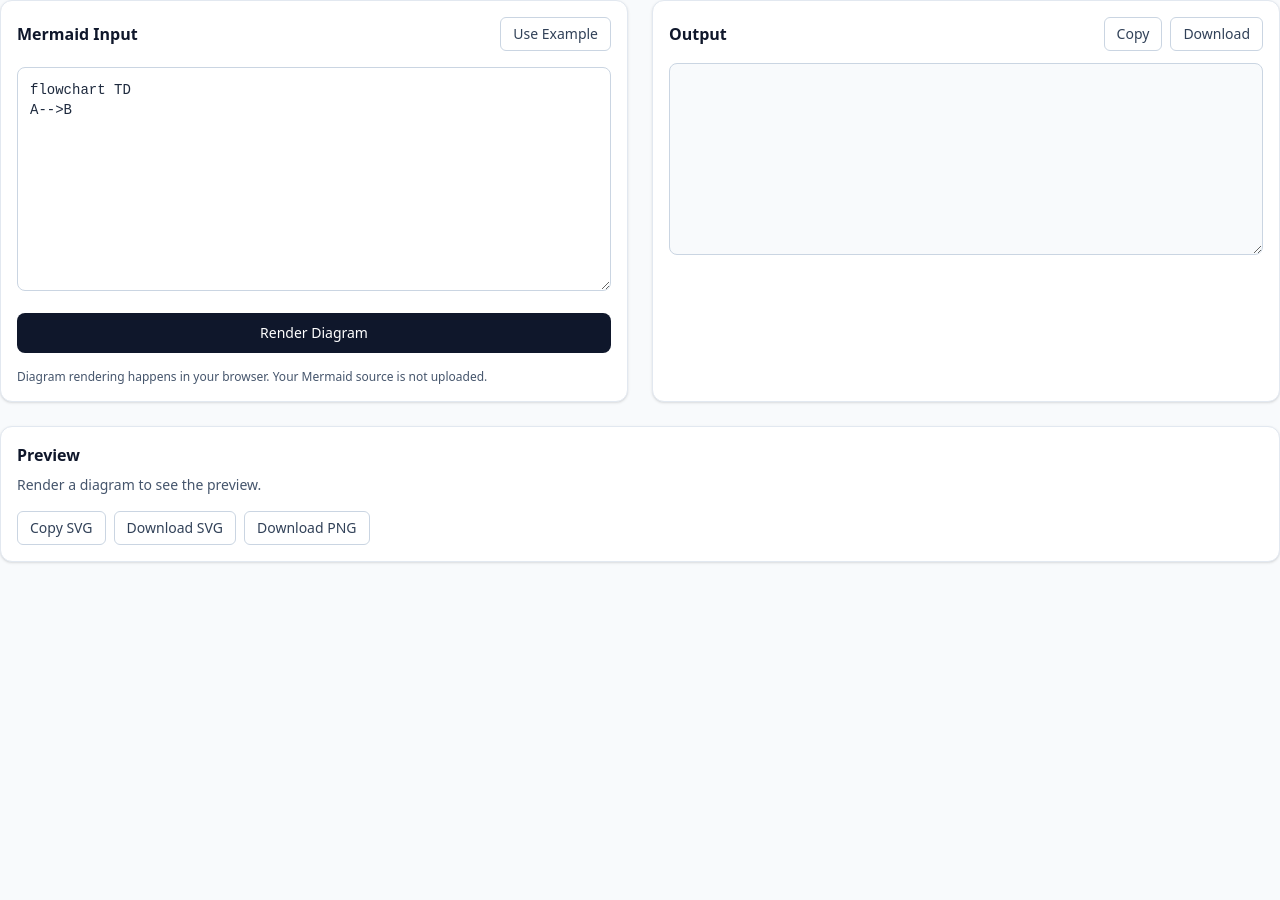
Test: MermaidEditorTool › renders mermaid output and previews svg
Step 1. Click the button "Render Diagram" → (314, 333), box [17,313,611,353]
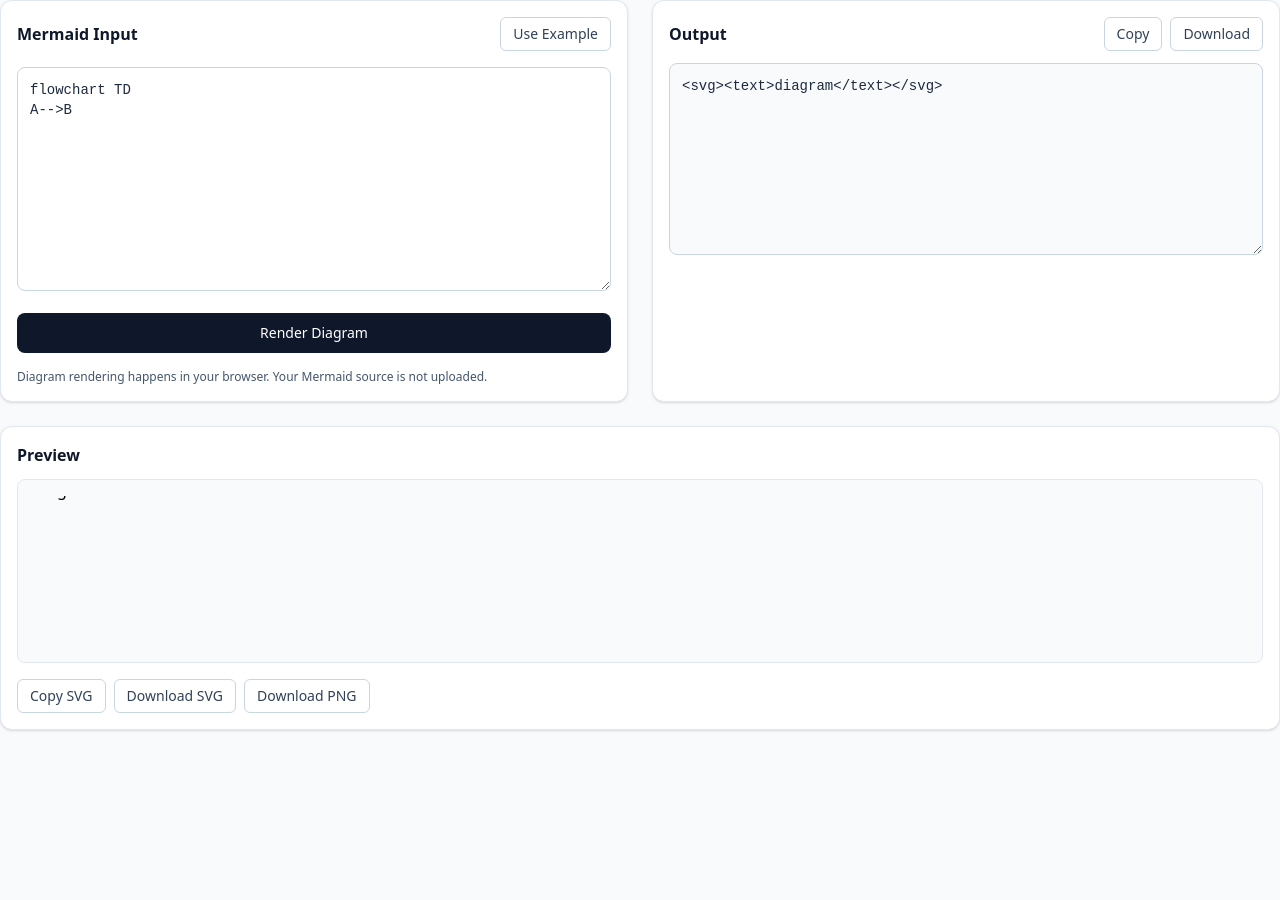
Now the text box showing "<svg><text>diagram</text></svg>" below "Output" is shown, box [669,63,1263,255]
